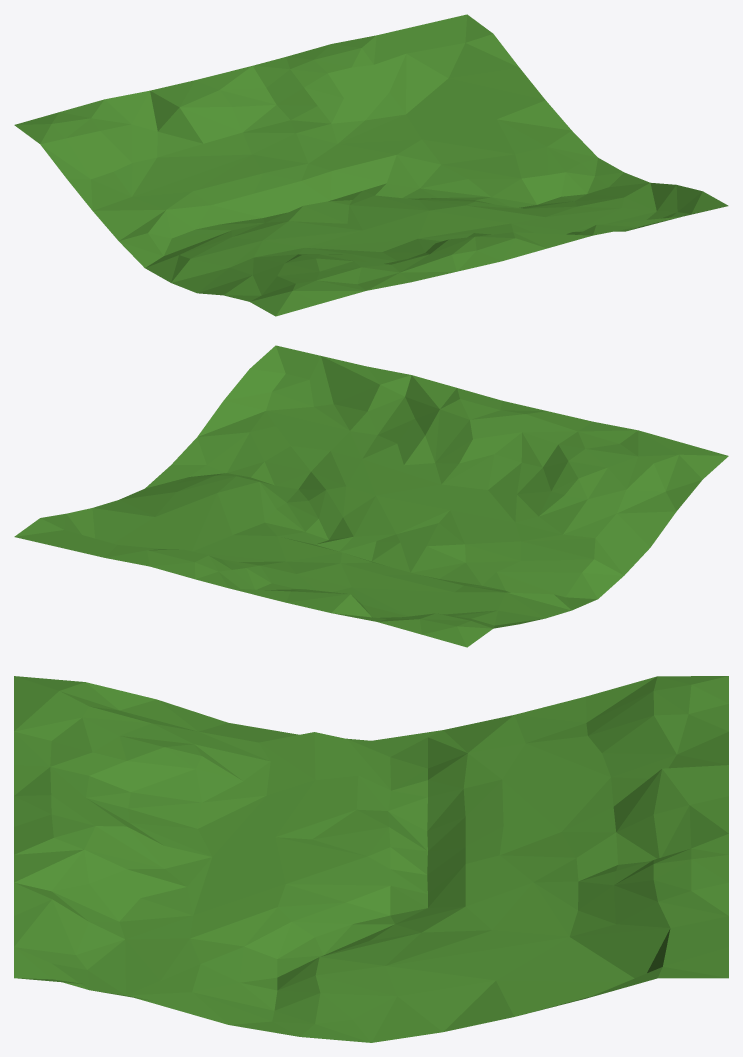
The model's file is terrain-valley.glb.
3 views of the same model, one above another, from view 1: azimuth 30°, elevation 25°; view 2: azimuth 150°, elevation 25°; view 3: azimuth 270°, elevation 25° (orthographic). The views are drawn at different scales.
Parts seen in each view (by area): view 1: terrain-valley; view 2: terrain-valley; view 3: terrain-valley.
Part boxes in pixels (x1,y1,x2,y2): terrain-valley: (14,14,728,316); terrain-valley: (14,345,728,647); terrain-valley: (14,676,728,1042).
Bounding box in the file's own units: 60 × 6.72 × 60.
1 material, 1 textured.
